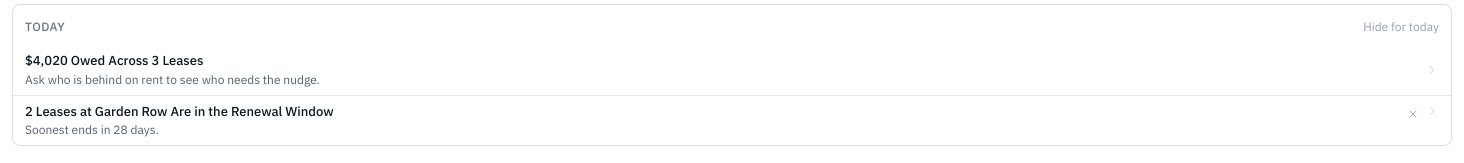
TodayCard sections › "Hide for today" dismisses the brief as a group, keeping reminders
Click the button with test id "inbox-today-hide-brief" at (1401, 27), box [1357,15,1445,39]
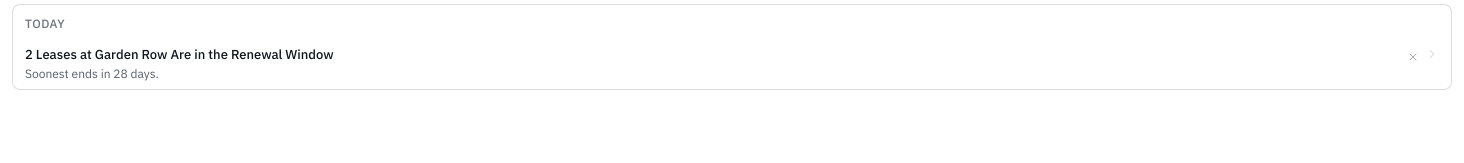
expect the element with test id "inbox-today-reminder-0" is shown: met, box [13,39,1451,88]
expect the button with test id "inbox-today-brief-0" is gone: met
